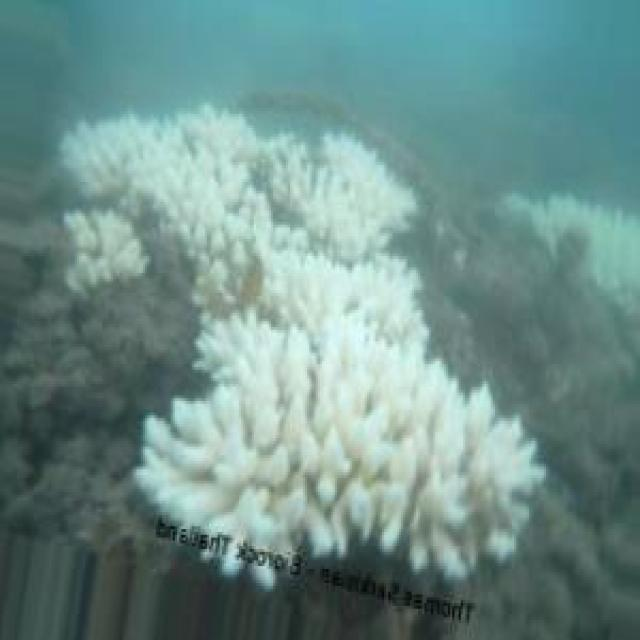bleached coral: (136, 220, 544, 576), (64, 108, 290, 286), (274, 135, 415, 262), (505, 195, 640, 309), (256, 444, 356, 538), (557, 208, 640, 307), (145, 401, 241, 486), (318, 350, 420, 427), (416, 449, 476, 572), (337, 148, 412, 242), (60, 128, 134, 216), (158, 134, 224, 228), (230, 330, 314, 401), (265, 159, 326, 253), (192, 242, 262, 321), (90, 213, 141, 276), (339, 284, 386, 333), (183, 509, 239, 540)
